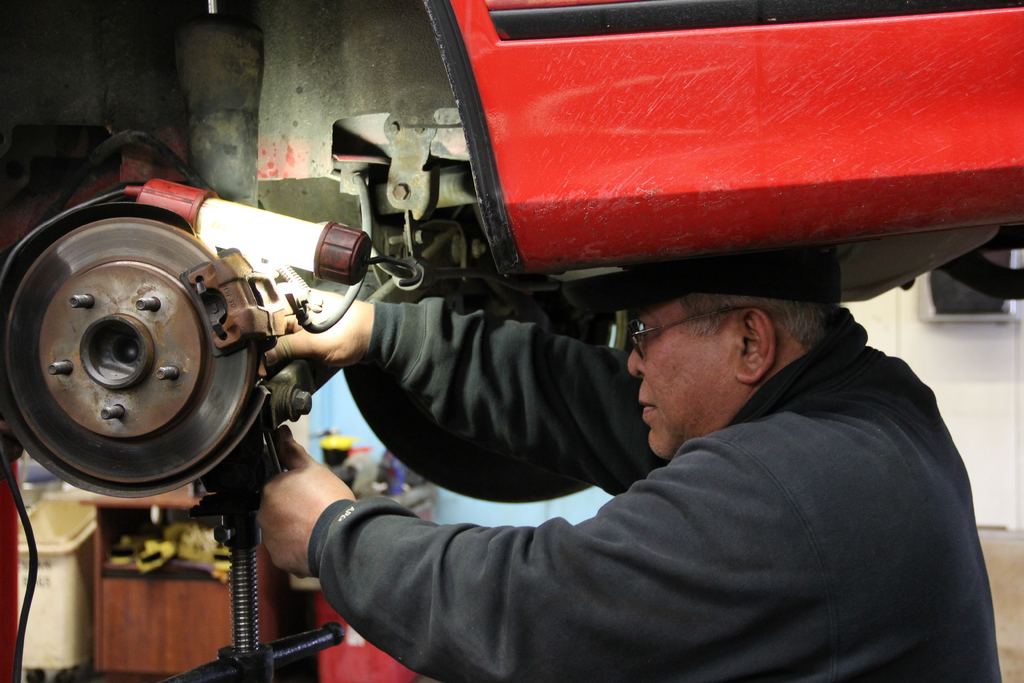Person: (256, 246, 1002, 683)
